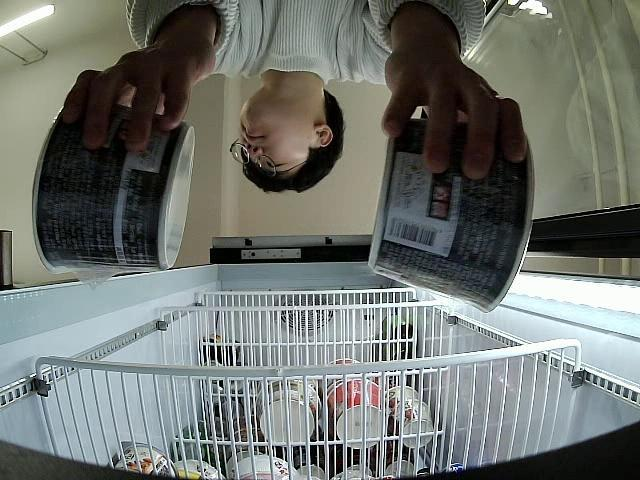07_buldak_L: (368, 120, 535, 313), (31, 97, 194, 274)
